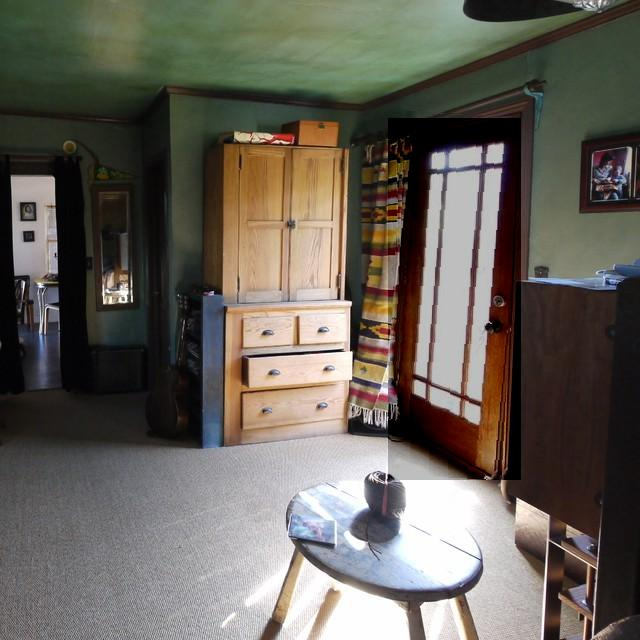doorhandle: (389, 119, 520, 480), (486, 313, 511, 338)
